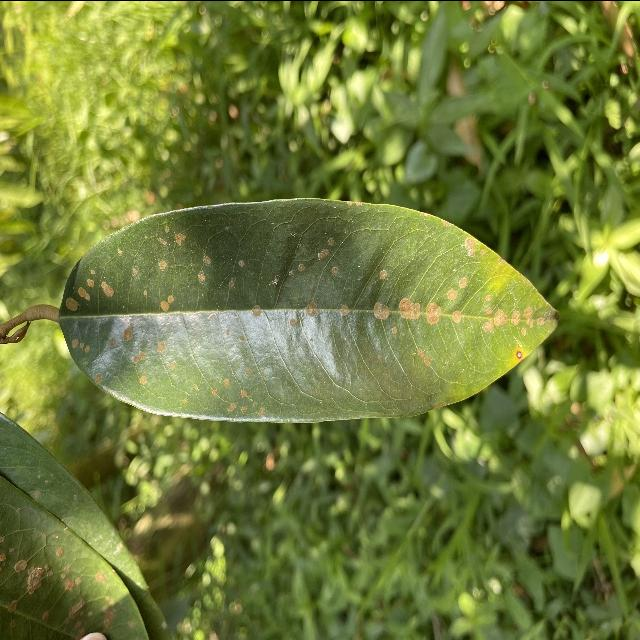Algal Leaf Spot: (49, 189, 564, 430)
